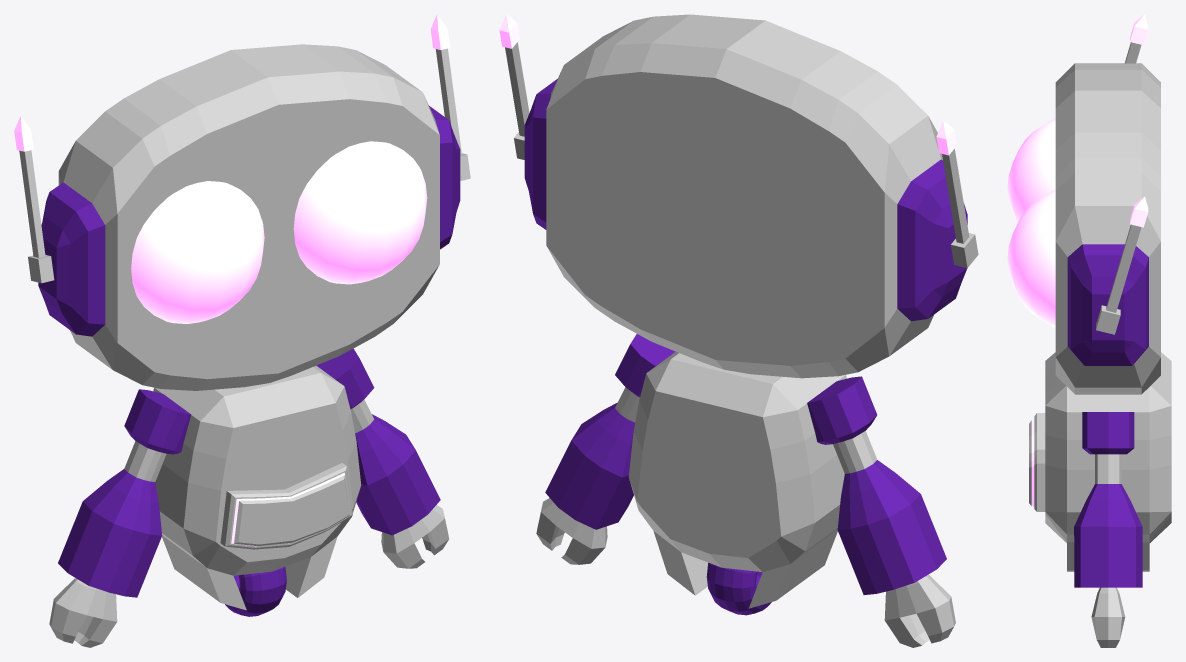
The model's file is robot.glb.
3 views of the same model, side by side, from view 1: azimuth 30°, elevation 25°; view 2: azimuth 150°, elevation 25°; view 3: azimuth 270°, elevation 25° (orthographic). The views are drawn at different scales.
Visible parts, largest first — view 1: Cube.002, Cube, Sphere, Cube.001, Torus; view 2: Cube.002, Cube, Cube.001, Torus; view 3: Cube.002, Cube, Cube.001, Sphere.
Part boxes in pixels (x1=…): Cube.002: x1=14, y1=14, x2=470, y2=390; Cube: x1=153, y1=365, x2=361, y2=610; Sphere: x1=131, y1=141, x2=427, y2=323; Cube.001: x1=49, y1=348, x2=449, y2=647; Torus: x1=225, y1=567, x2=286, y2=616; Cube.002: x1=499, y1=14, x2=978, y2=378; Cube: x1=628, y1=352, x2=846, y2=608; Cube.001: x1=536, y1=334, x2=955, y2=647; Torus: x1=706, y1=562, x2=771, y2=615; Cube.002: x1=1055, y1=14, x2=1160, y2=394; Cube: x1=1029, y1=352, x2=1171, y2=571; Cube.001: x1=1074, y1=412, x2=1142, y2=647; Sphere: x1=1007, y1=119, x2=1055, y2=327.
Size of the model in its own units: 2.11 by 2.58 by 0.7792.
